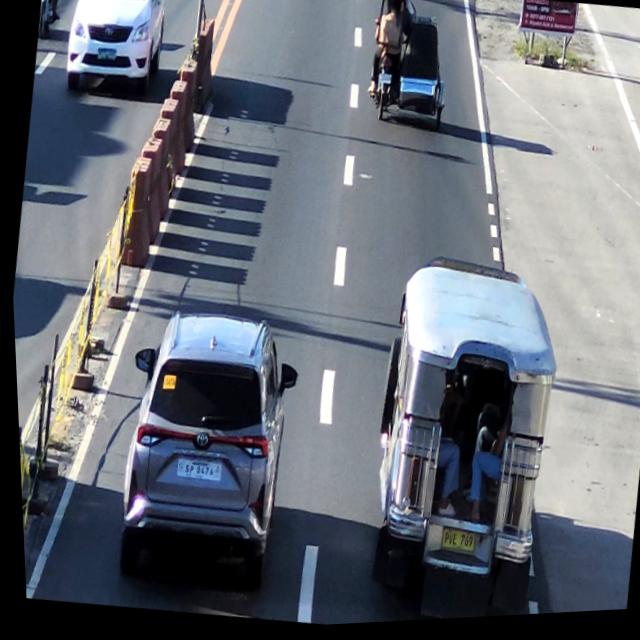Car: (106, 304, 296, 585)
Jeep: (352, 255, 571, 623)
License-Plate: (170, 455, 220, 490), (433, 526, 474, 561), (96, 43, 119, 64), (374, 77, 393, 89)
Tricycle: (357, 0, 458, 138)
